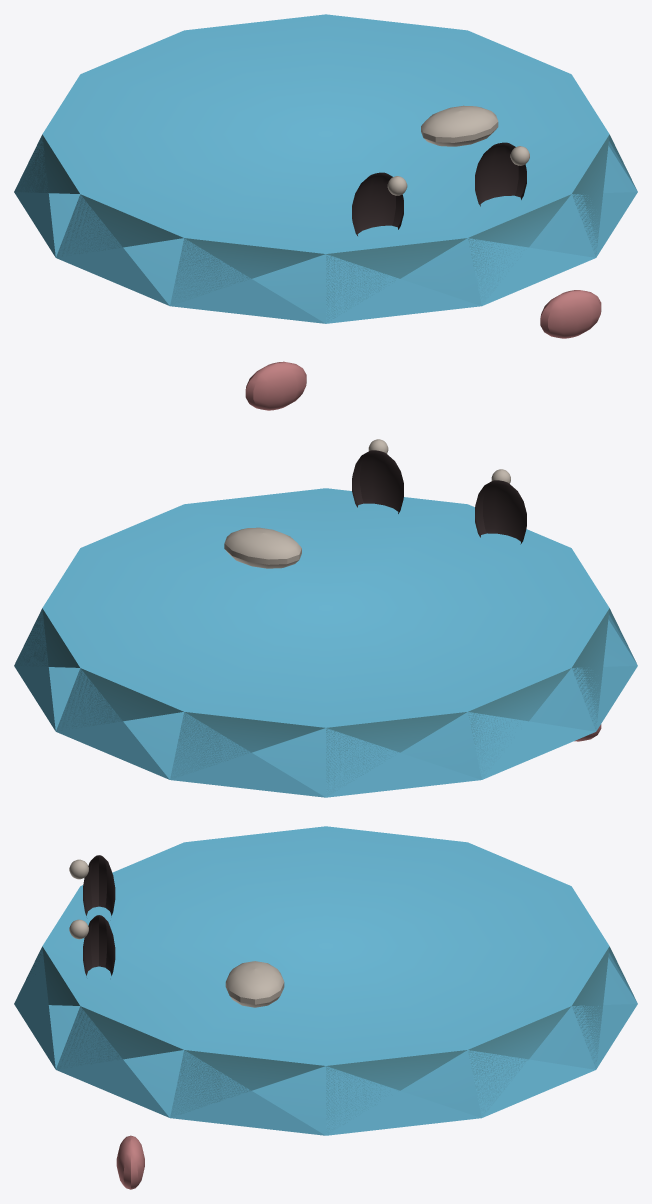
3 renders of one model, top to bottom at view 1: azimuth 30°, elevation 25°; view 2: azimuth 150°, elevation 25°; view 3: azimuth 270°, elevation 25°, orthographic.
Visible parts, largest first — view 1: pet_p622a1e59; view 2: pet_p622a1e59; view 3: pet_p622a1e59.
Part boxes in pixels (x1=…): pet_p622a1e59: x1=14, y1=14, x2=637, y2=410; pet_p622a1e59: x1=14, y1=439, x2=637, y2=797; pet_p622a1e59: x1=14, y1=826, x2=637, y2=1189.
Size of the model in its own units: 0.44 by 0.177 by 0.44.
